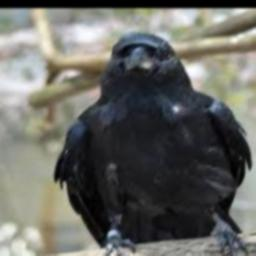Crow: (53, 32, 252, 256)
